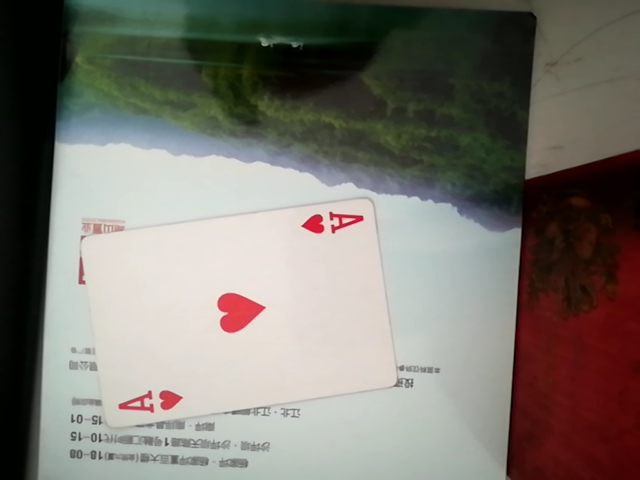hx a: (69, 191, 398, 434)
